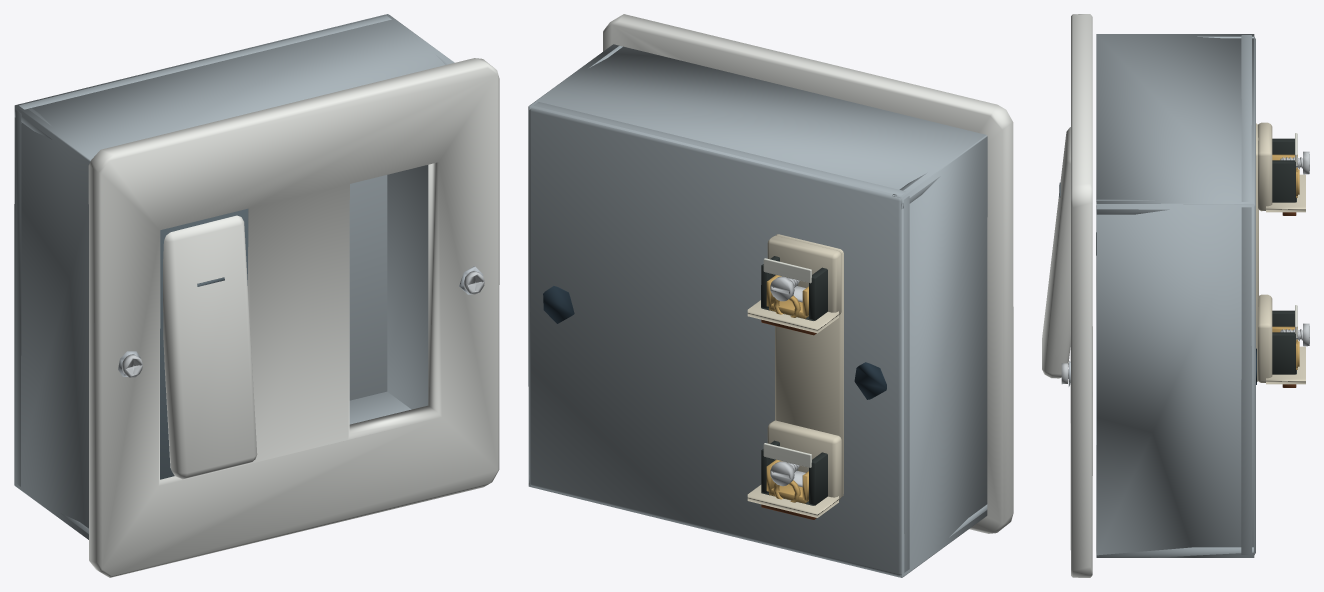
File: switch_gang-module-left.low.glb
3 renders of one model, left to right at view 1: azimuth 30°, elevation 25°; view 2: azimuth 150°, elevation 25°; view 3: azimuth 270°, elevation 25°, orthographic. The views are drawn at different scales.
Parts seen in each view (by area): view 1: part:cover, part:body · Original 2a8198d3, motion:rocker, part:actuator, detail:faceplate-fixing · Detail zinc plated fixing; view 2: part:body · Original 2a8198d3, part:cover, part:terminals · Original 5a609f27, part:body · Original a463fd81, detail:terminal-clamp:COM · Detail moulded engineering polym, detail:terminal-clamp:OUT · Detail moulded engineering polym, detail:terminal-clamp:COM · Detail machined brass, detail:terminal-clamp:OUT · Detail machined brass, Moulded terminal legend pad, Moulded terminal legend pad.001, detail:terminal-clamp:COM · Detail zinc plated fixing, detail:terminal-clamp:OUT · Detail zinc plated fixing; view 3: part:body · Original 2a8198d3, part:cover, motion:rocker, part:terminals · Original 5a609f27, detail:terminal-clamp:COM · Detail moulded engineering polym, detail:terminal-clamp:OUT · Detail moulded engineering polym.
Part boxes in pixels (x1,y1,x2,y2): part:cover: (88, 58, 499, 577); part:body · Original 2a8198d3: (14, 14, 454, 539); motion:rocker: (163, 215, 257, 479); part:actuator: (160, 208, 248, 479); detail:faceplate-fixing · Detail zinc plated fixing: (122, 271, 484, 377); part:body · Original 2a8198d3: (528, 44, 987, 577); part:cover: (603, 14, 1013, 533); part:terminals · Original 5a609f27: (747, 234, 843, 517); part:body · Original a463fd81: (543, 286, 886, 399); detail:terminal-clamp:COM · Detail moulded engineering polym: (761, 256, 827, 320); detail:terminal-clamp:OUT · Detail moulded engineering polym: (761, 440, 827, 505); detail:terminal-clamp:COM · Detail machined brass: (766, 275, 808, 318); detail:terminal-clamp:OUT · Detail machined brass: (766, 459, 808, 503); Moulded terminal legend pad: (763, 258, 811, 283); Moulded terminal legend pad.001: (763, 443, 811, 467); detail:terminal-clamp:COM · Detail zinc plated fixing: (770, 276, 805, 302); detail:terminal-clamp:OUT · Detail zinc plated fixing: (770, 461, 805, 487); part:body · Original 2a8198d3: (1096, 34, 1255, 557); part:cover: (1070, 14, 1092, 577); motion:rocker: (1042, 127, 1070, 378); part:terminals · Original 5a609f27: (1256, 122, 1305, 384); detail:terminal-clamp:COM · Detail moulded engineering polym: (1272, 138, 1296, 202); detail:terminal-clamp:OUT · Detail moulded engineering polym: (1272, 310, 1296, 374).
Size of the model in its own units: 0.9746 by 0.9793 by 0.6047.
